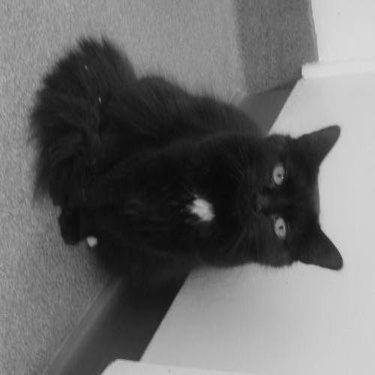cat: (32, 23, 361, 300)
